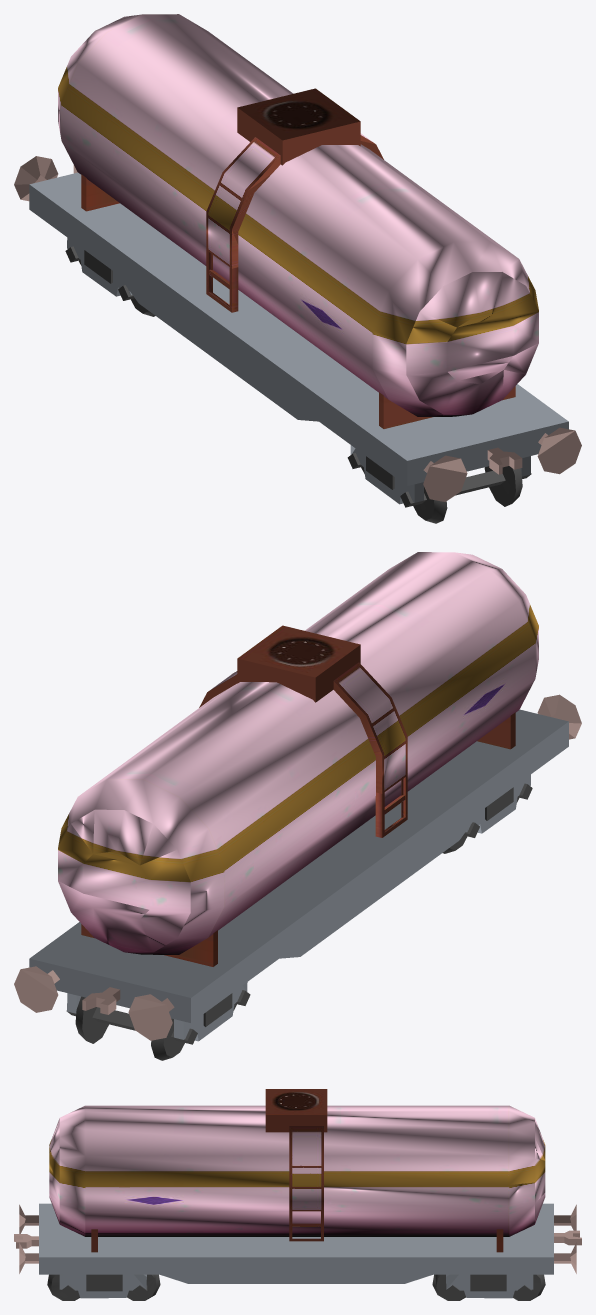
Rendered from tankcarpink.dae.
3 views of the same model, one above another, from view 1: azimuth 30°, elevation 25°; view 2: azimuth 150°, elevation 25°; view 3: azimuth 270°, elevation 25° (orthographic). The views are drawn at different scales.
Visible parts, largest first — view 1: 9.0.242.0_Pts_Material__4__Surf, 9.0.242.0_Pts_Material_Surf, 9.0.242.0_Pts_Material__3__Surf, 9.0.242.0_Pts_Material__2__Surf; view 2: 9.0.242.0_Pts_Material__4__Surf, 9.0.242.0_Pts_Material_Surf, 9.0.242.0_Pts_Material__3__Surf, 9.0.242.0_Pts_Material__2__Surf; view 3: 9.0.242.0_Pts_Material__4__Surf, 9.0.242.0_Pts_Material_Surf, 9.0.242.0_Pts_Material__2__Surf, 9.0.242.0_Pts_Material__3__Surf.
Part boxes in pixels (box(x1,y1,x2,y2)): 9.0.242.0_Pts_Material__4__Surf: box(58, 14, 538, 428); 9.0.242.0_Pts_Material_Surf: box(29, 172, 568, 504); 9.0.242.0_Pts_Material__3__Surf: box(14, 156, 581, 501); 9.0.242.0_Pts_Material__2__Surf: box(65, 246, 531, 523); 9.0.242.0_Pts_Material__4__Surf: box(58, 552, 538, 966); 9.0.242.0_Pts_Material_Surf: box(29, 709, 568, 1041); 9.0.242.0_Pts_Material__3__Surf: box(14, 694, 581, 1040); 9.0.242.0_Pts_Material__2__Surf: box(66, 783, 532, 1060); 9.0.242.0_Pts_Material__4__Surf: box(49, 1089, 545, 1252); 9.0.242.0_Pts_Material_Surf: box(39, 1203, 553, 1298); 9.0.242.0_Pts_Material__2__Surf: box(47, 1274, 545, 1300); 9.0.242.0_Pts_Material__3__Surf: box(14, 1204, 581, 1273).
Size of the model in its own units: 3.49 by 5.22 by 14.32.
Materials: 4 (1 with a texture image).
